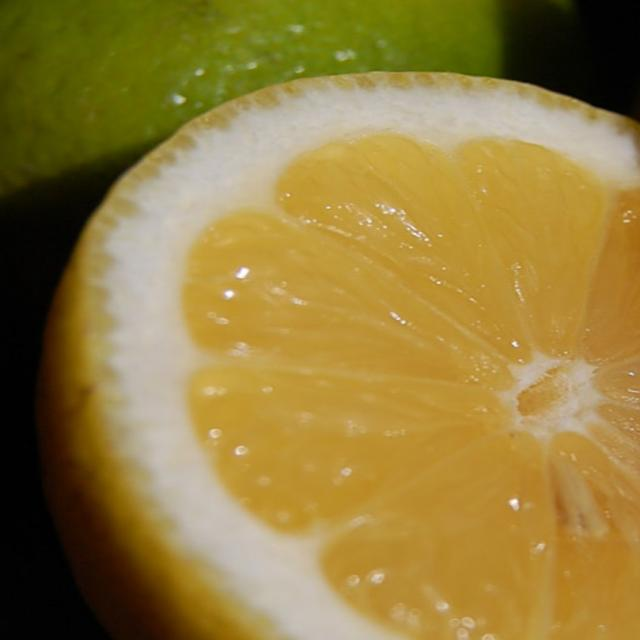Lemon: (42, 58, 639, 639), (0, 0, 507, 206)
